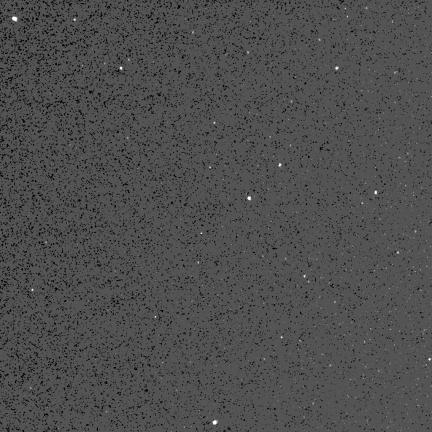blob: (12, 17, 18, 22), (213, 420, 218, 425), (279, 163, 282, 168), (375, 191, 378, 195), (335, 67, 338, 70), (248, 197, 251, 200), (214, 122, 216, 125), (397, 252, 400, 254), (120, 67, 122, 70), (304, 275, 306, 278)
